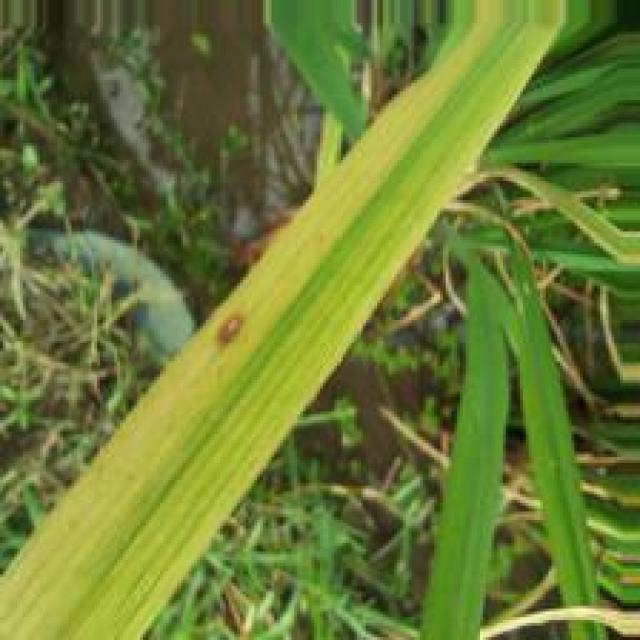Brown_Spot: (214, 305, 254, 361)
